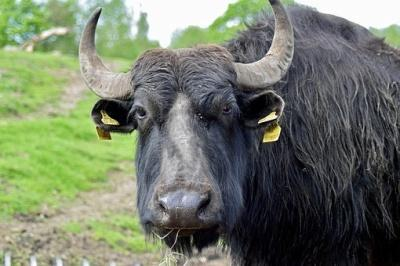buffalo: (79, 0, 400, 266)
